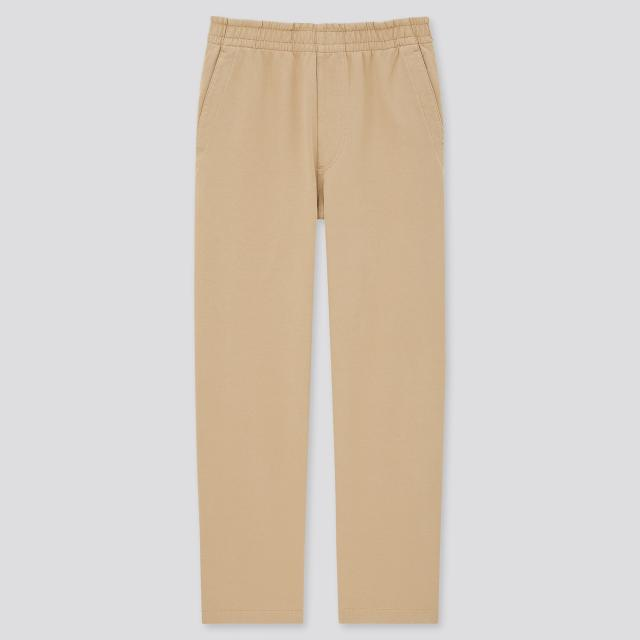long-pants: (192, 16, 450, 630)
